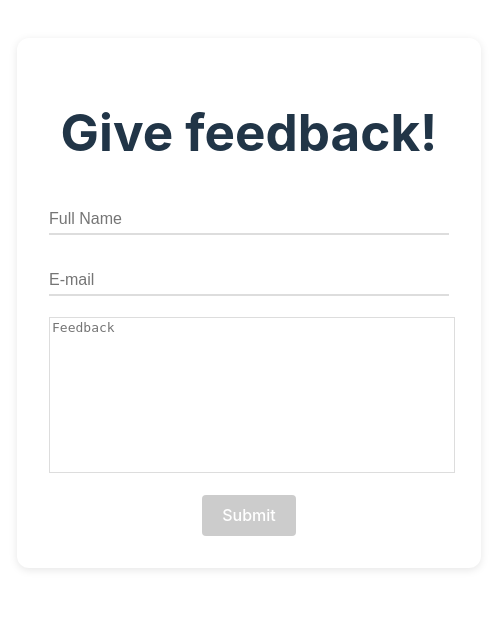
ContactForm.vue › Displays correct erros message when input is wrong
The width and height of the screenshot is (499, 624).
// Name input
Type "123456789" into the field with placeholder "Full Name" at (249,220), box [49,205,449,235]
Leave the field with placeholder "Full Name", box [49,205,449,235]
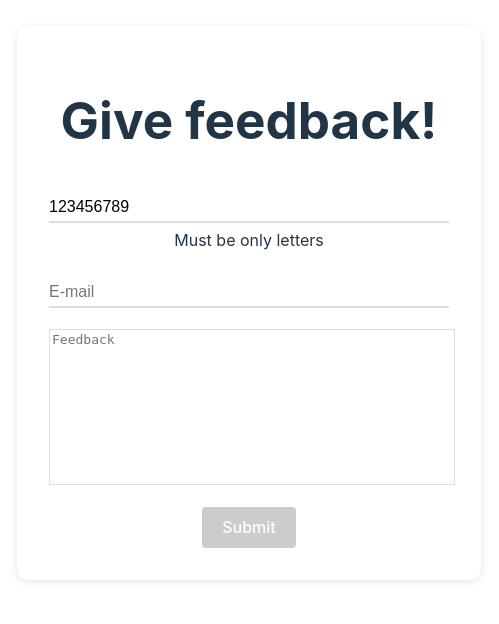
expect the text "Must be only letters" is shown: met, box [174,230,324,250]
Replace the text in the field with placeholder "Full Name" with "teste" at (249,208), box [49,193,449,223]
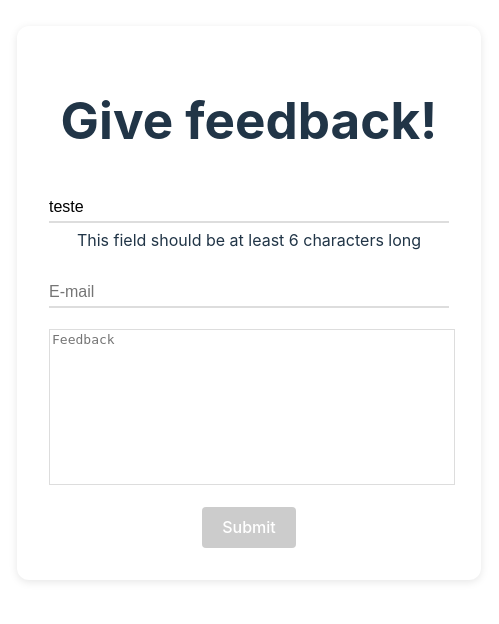
expect the text "This field should be at least 6 characters long" is shown: met, box [77,230,421,250]
// Email input
Type "invalidemail" into the field with placeholder "E-mail" at (249,293), box [49,278,449,308]
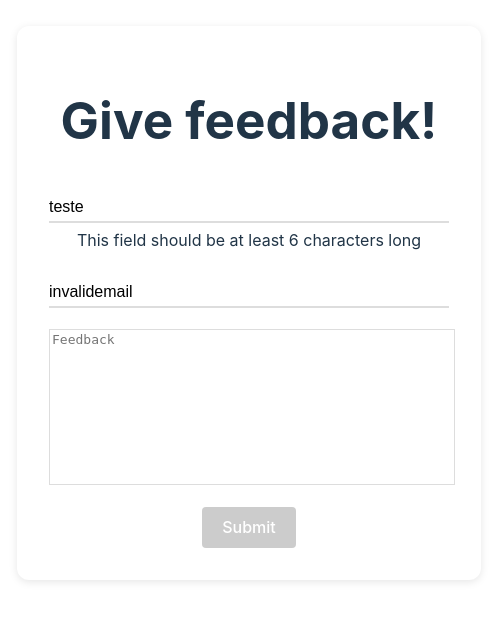
Leave the 2nd field with placeholder "E-mail", box [49,278,449,308]
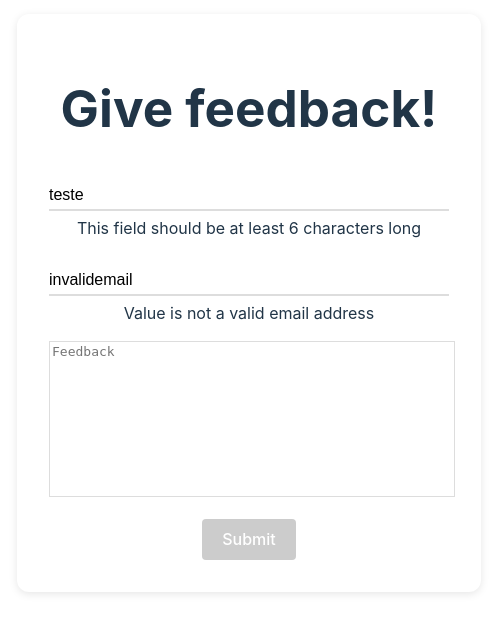
expect the text "Value is not a valid email address" is shown: met, box [124,303,374,323]
// Feedback input
Type "Short" into the text box with placeholder "Feedback" at (252,419), box [49,341,455,497]
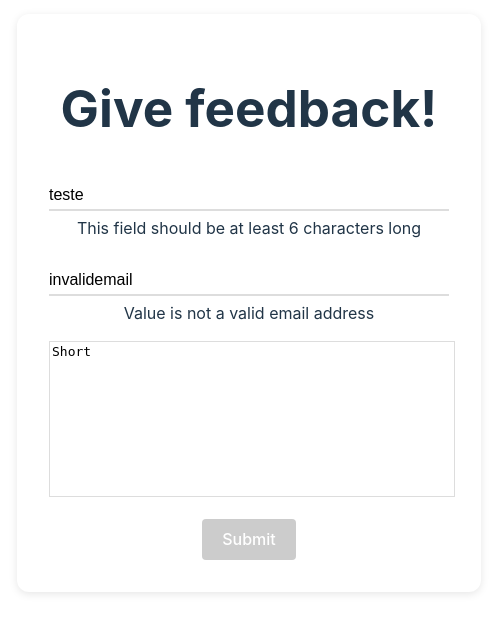
Leave the text box with placeholder "Feedback", box [49,341,455,497]
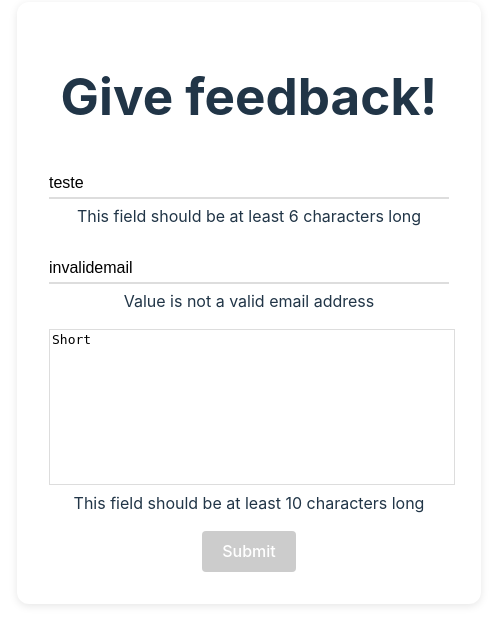
expect the text "This field should be at least 10 characters long" is shown: met, box [74,493,424,513]
